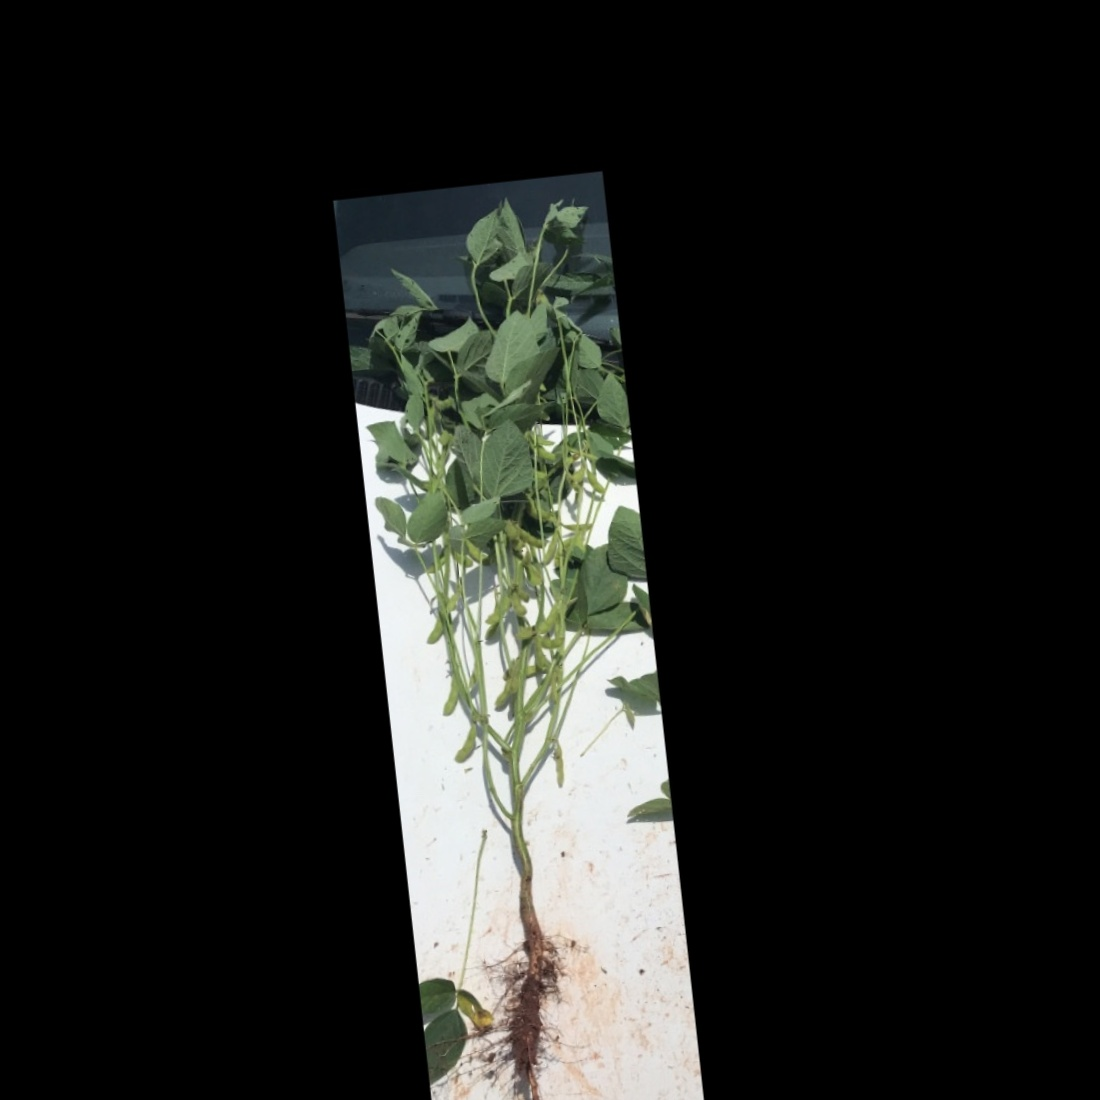pod: (442, 721, 484, 770), (435, 670, 464, 721), (536, 532, 561, 572), (421, 612, 445, 647), (463, 538, 491, 568), (534, 633, 570, 652), (587, 465, 607, 499)
soy: (345, 198, 683, 1100)
